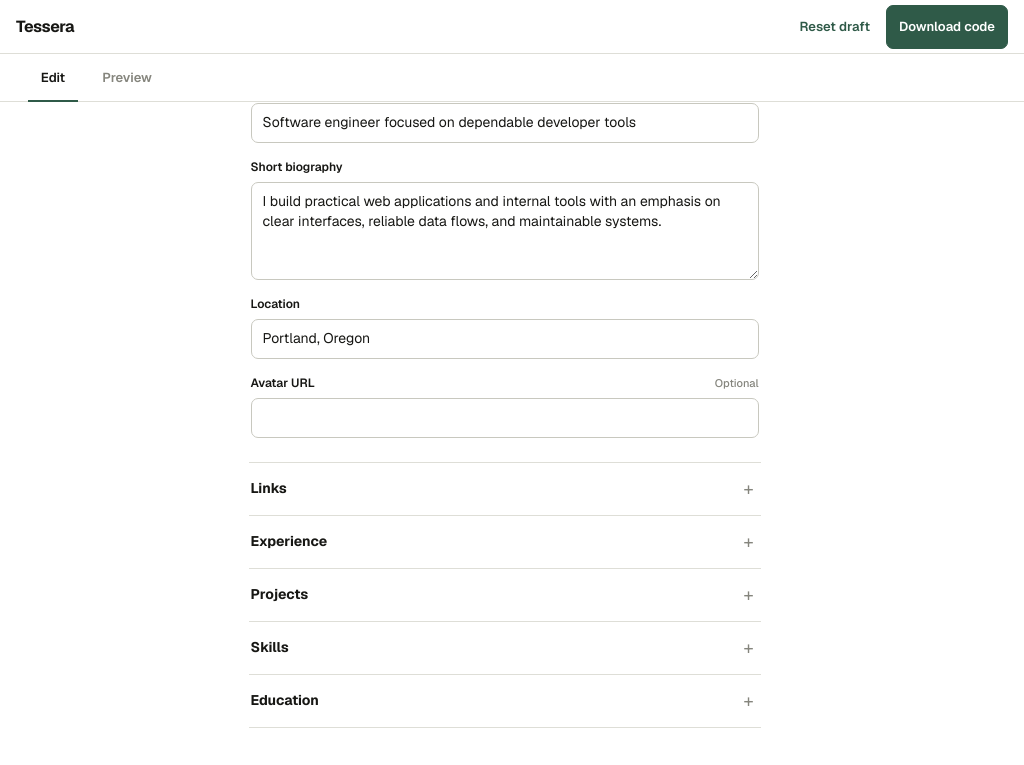
Test: Tessera portfolio builder › cancels reset when keep edits is chosen
(page scrolled)
Click the button "Links +" at (269, 488), box x1=248 y1=463 x2=760 y2=515
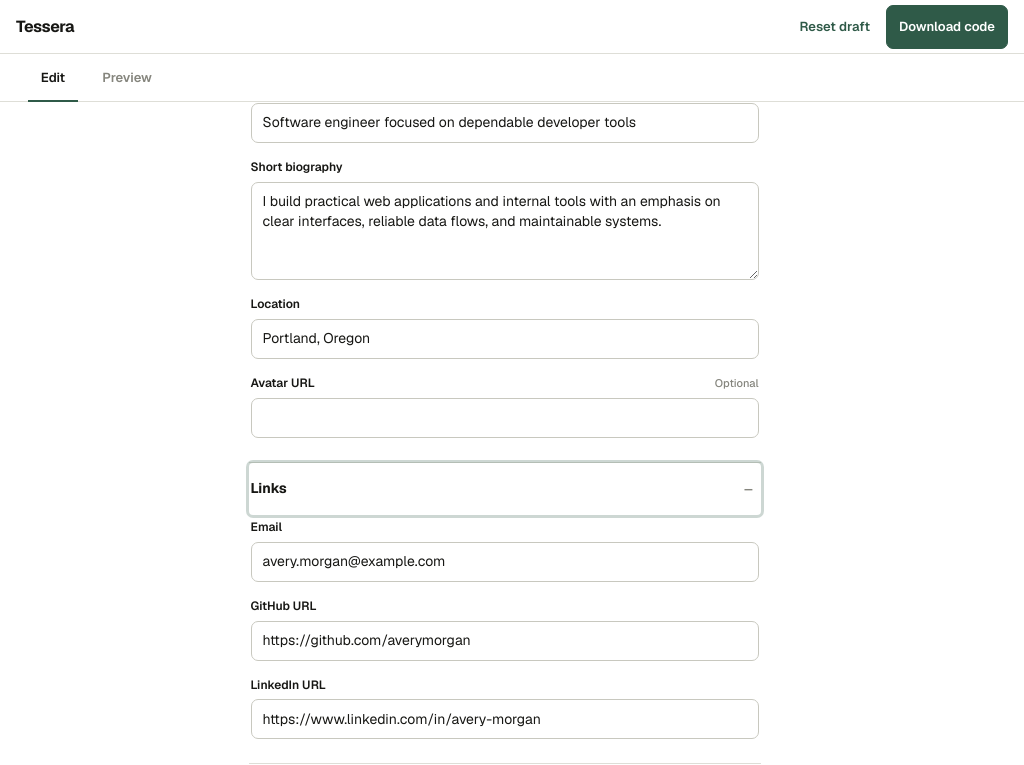
Replace the text in the field labelled "Email" with "keep@me.com" at (504, 562), box x1=250 y1=542 x2=758 y2=582
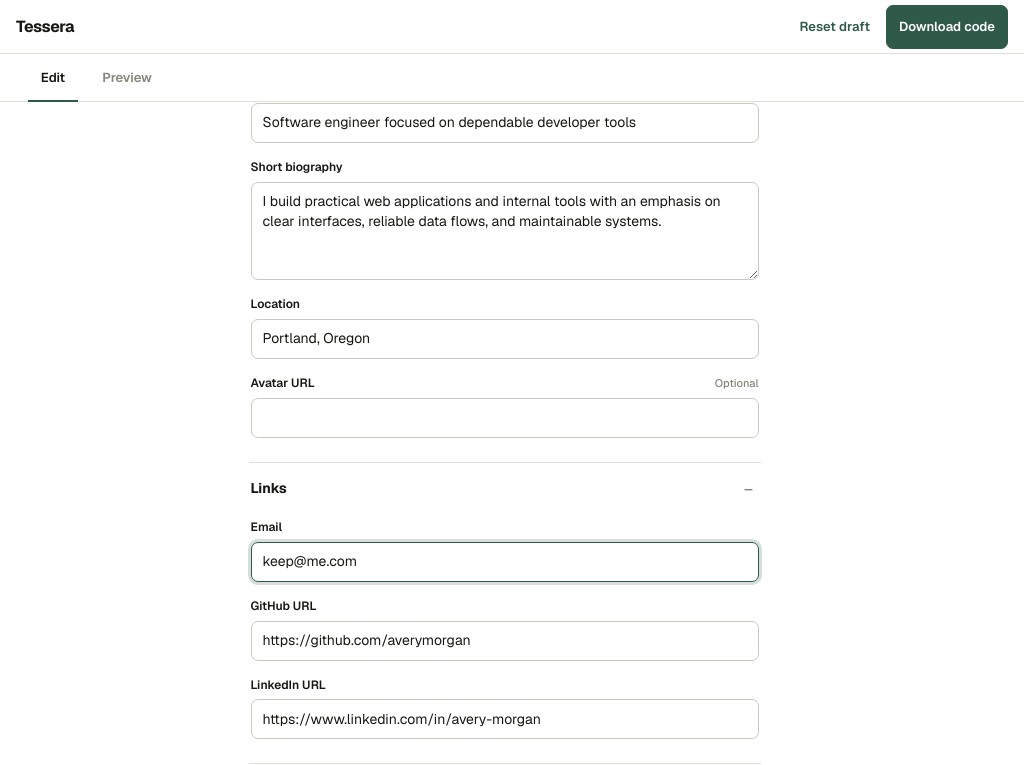
Click the button "Reset draft" at (835, 26), box x1=790 y1=4 x2=880 y2=48
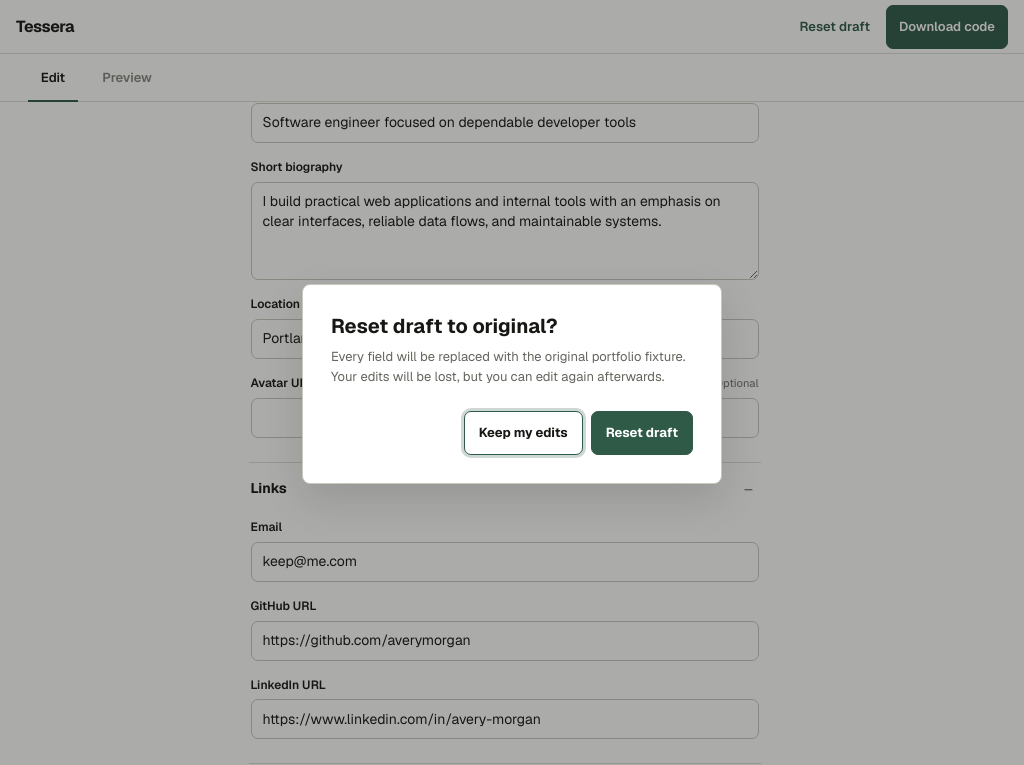
Now the dialog "Reset draft to original?" is shown, box x1=302 y1=284 x2=722 y2=484
Click the button "Keep my edits" at (523, 433), box x1=464 y1=411 x2=583 y2=455
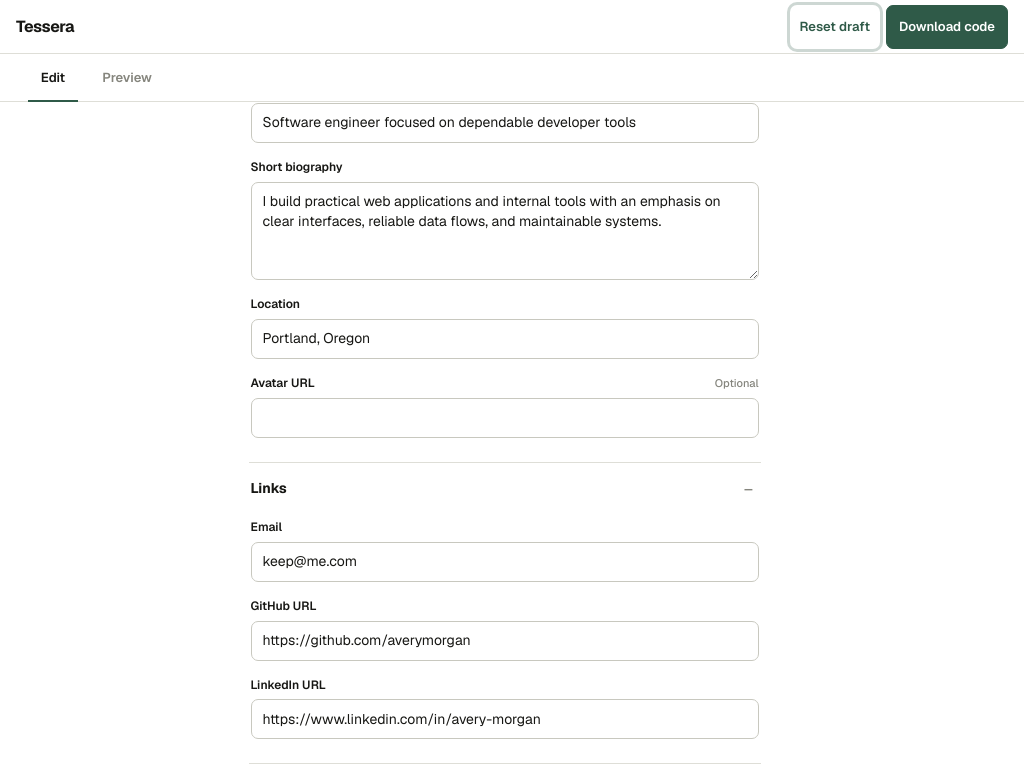
Now the dialog is gone
